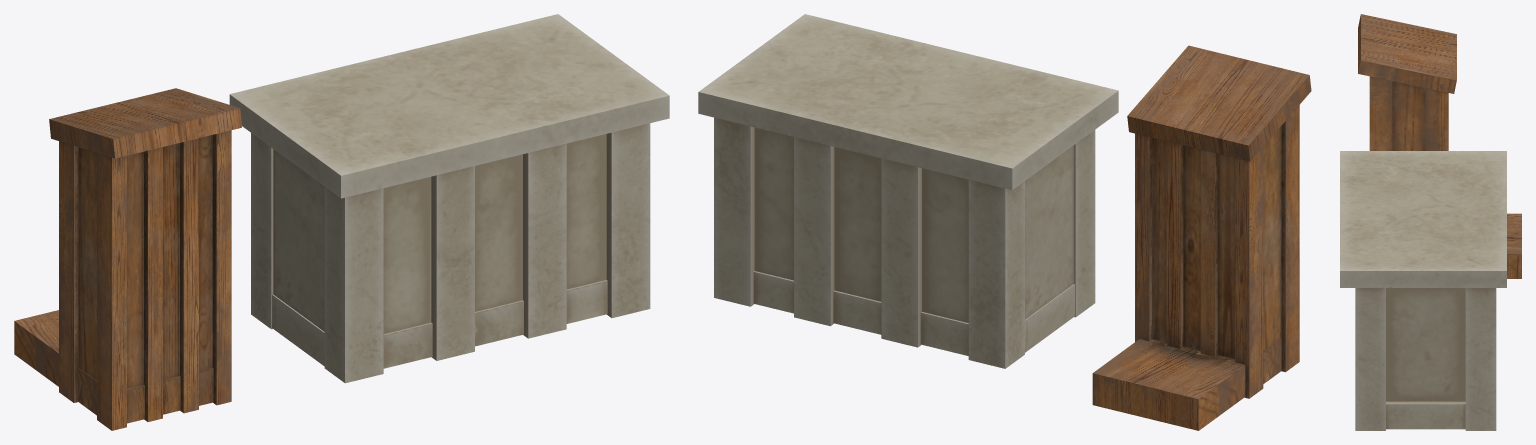
File: props4chrunch.fbx
3 views of the same model, side by side, from view 1: azimuth 30°, elevation 25°; view 2: azimuth 150°, elevation 25°; view 3: azimuth 270°, elevation 25° (orthographic). The views are drawn at different scales.
Visible parts, largest first — view 1: chrunchdesk, lectern; view 2: chrunchdesk, lectern; view 3: chrunchdesk, lectern.
Boxes of the visible parts, bbox=[...] form: chrunchdesk: bbox=[229, 14, 669, 383]; lectern: bbox=[14, 88, 241, 430]; chrunchdesk: bbox=[698, 14, 1118, 368]; lectern: bbox=[1092, 45, 1311, 430]; chrunchdesk: bbox=[1340, 151, 1506, 430]; lectern: bbox=[1358, 14, 1521, 278].
Size of the model in its own units: 281 by 147 by 109.
Materials: 1 (1 with a texture image).
